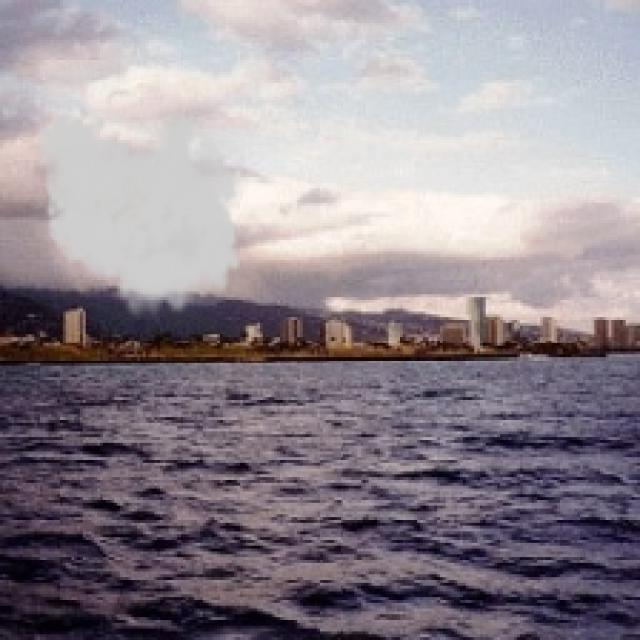smoke: (34, 103, 254, 323)
